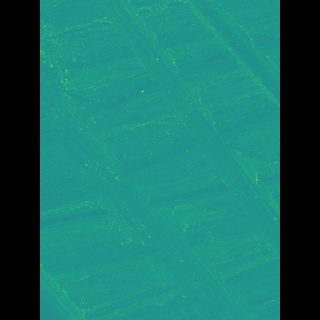Loch: (70, 93, 235, 319), (108, 0, 250, 256), (174, 0, 250, 110)
